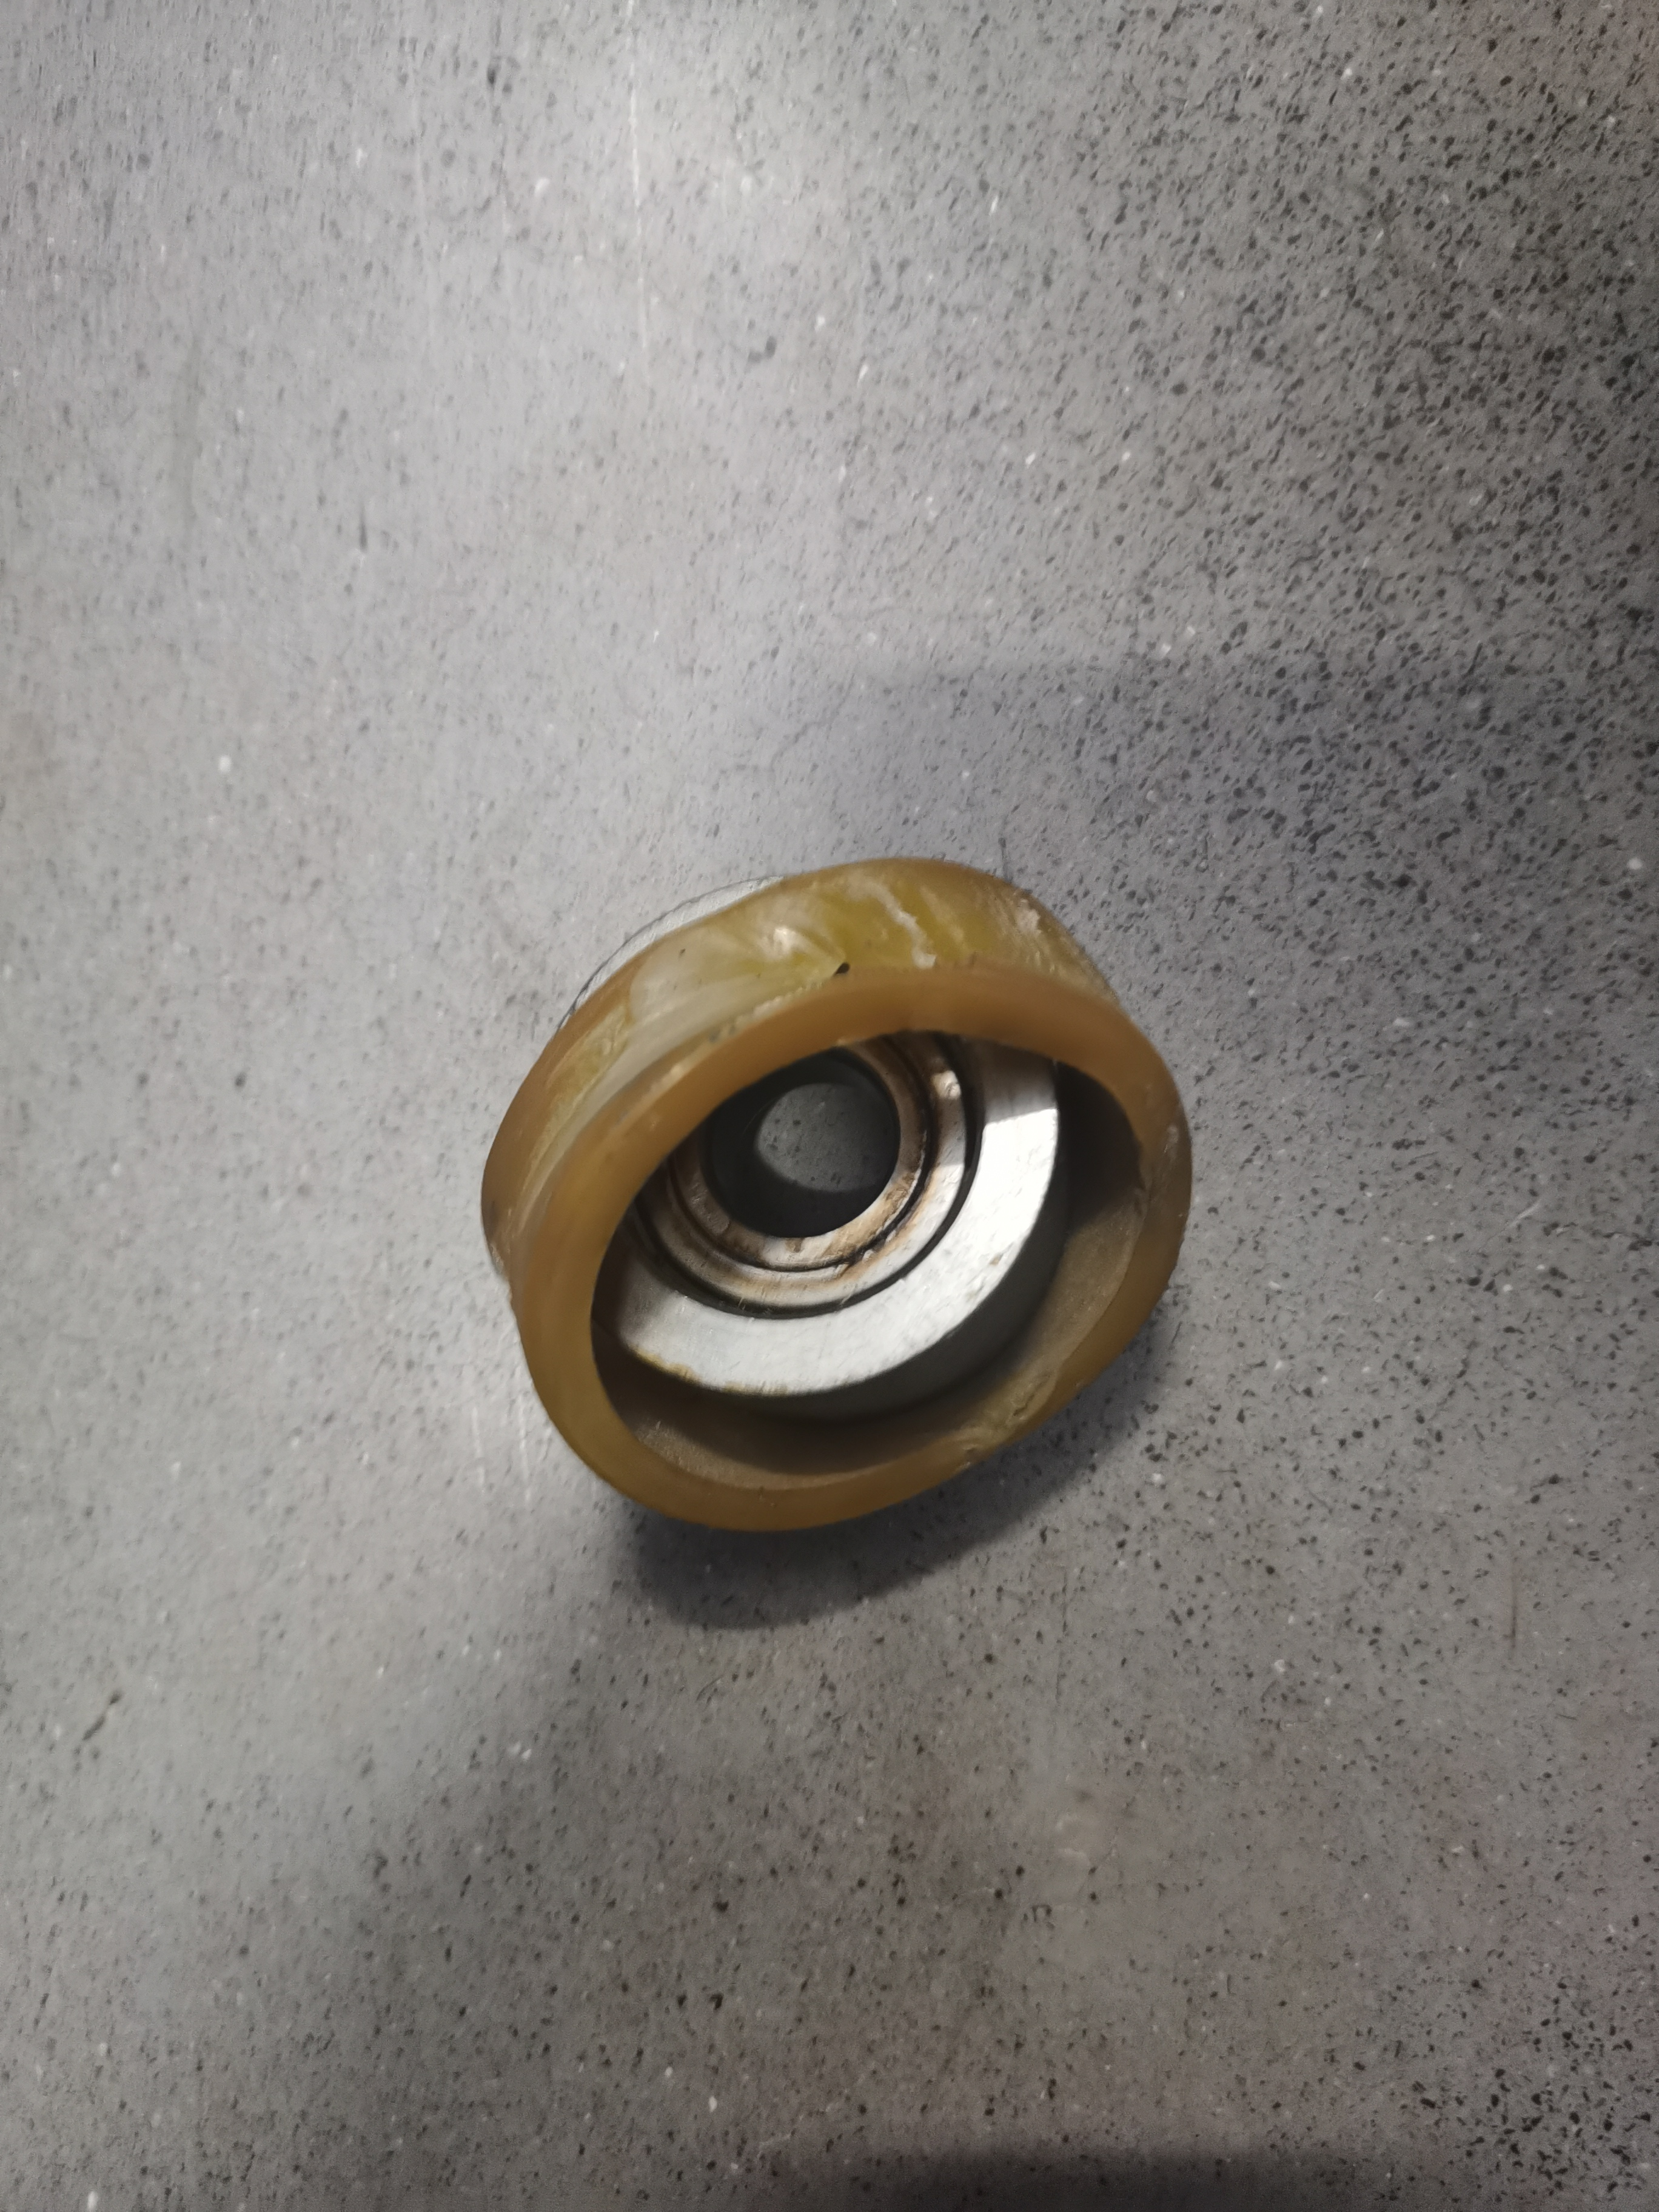bad_wheel: (443, 820, 1216, 1498)
